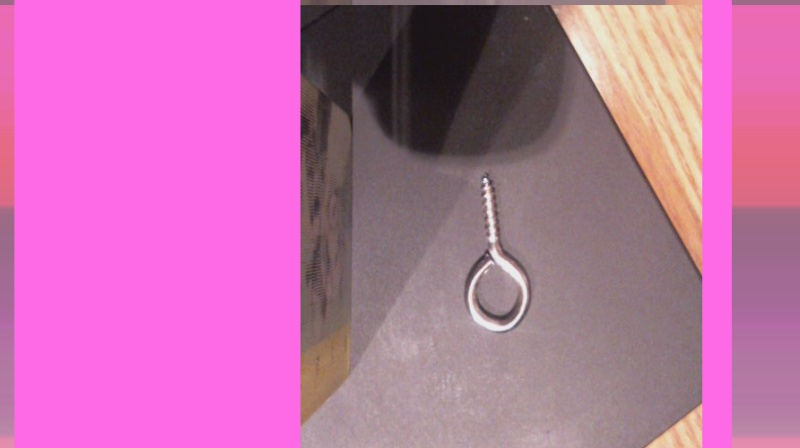O001: (458, 171, 535, 335)
